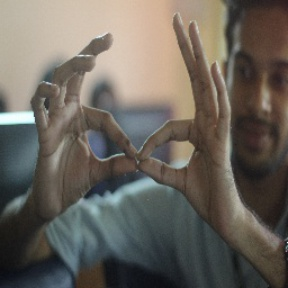B: (68, 82, 208, 198)
